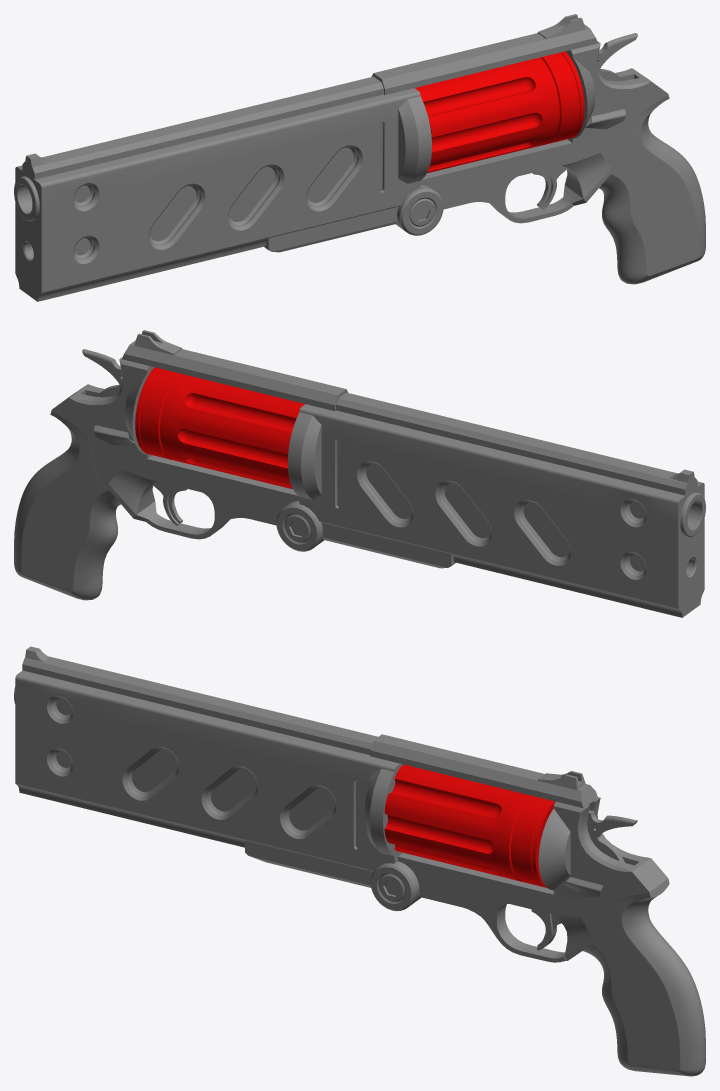
The model's file is REV.fbx.
3 views of the same model, one above another, from view 1: azimuth 30°, elevation 25°; view 2: azimuth 150°, elevation 25°; view 3: azimuth 330°, elevation 25° (orthographic).
Parts seen in each view (by area): view 1: Body, Barrel; view 2: Body, Barrel; view 3: Body, Barrel.
Part boxes in pixels (left/top/right/bottom): Body: left=14, top=14, right=705, bottom=301; Barrel: left=415, top=51, right=584, bottom=173; Body: left=14, top=330, right=705, bottom=617; Barrel: left=135, top=367, right=304, bottom=489; Body: left=14, top=646, right=705, bottom=1076; Barrel: left=384, top=764, right=555, bottom=887.
Size of the model in its own units: 3.88 by 1.53 by 0.4859.
